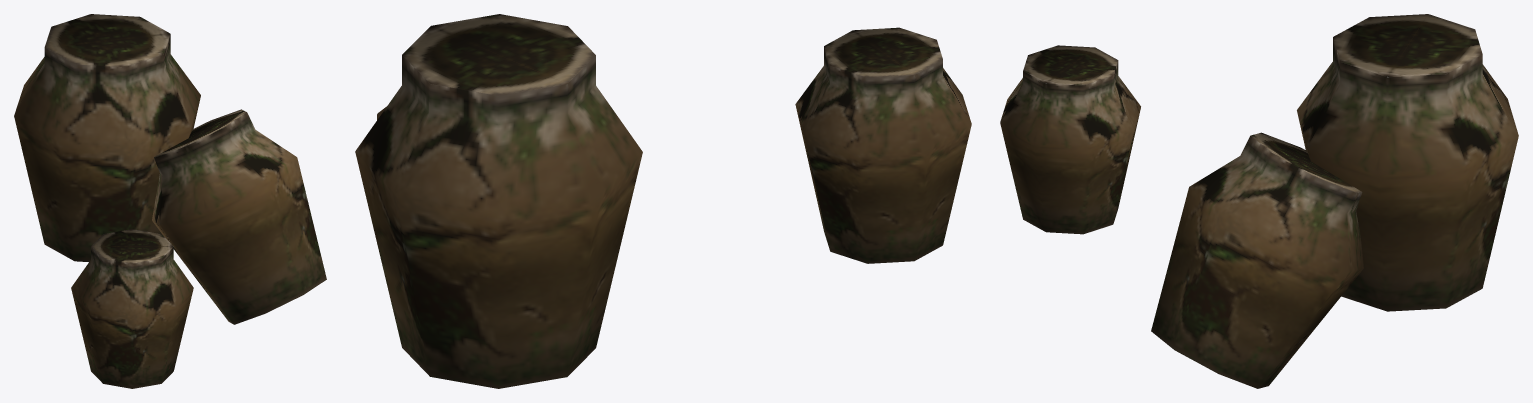
File: Hangzhou_wj_048_2.FBX
3 views of the same model, side by side, from view 1: azimuth 30°, elevation 25°; view 2: azimuth 150°, elevation 25°; view 3: azimuth 270°, elevation 25° (orthographic). The views are drawn at different scales.
Visible parts, largest first — view 1: Object03; view 2: Object03; view 3: Object03.
Boxes of the visible parts, box(x1,y1,x2,y2) form: Object03: box(14, 14, 326, 388); Object03: box(355, 14, 971, 388); Object03: box(1000, 14, 1518, 388).
Size of the model in its own units: 68.04 by 52.51 by 84.93.
1 material, 1 textured.
